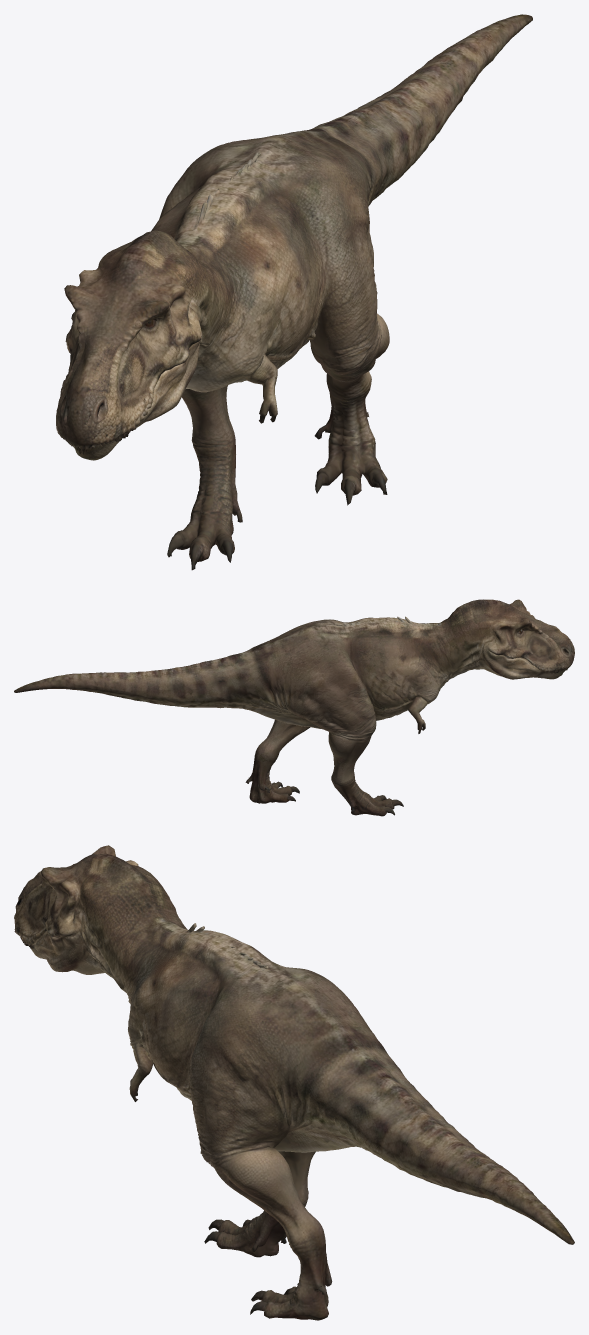
The model's file is t_rex.glb.
The picture shows the model from 3 angles, top to bottom: view 1: azimuth 30°, elevation 25°; view 2: azimuth 150°, elevation 25°; view 3: azimuth 270°, elevation 25°; orthographic projection. The views are drawn at different scales.
Visible parts, largest first — view 1: tripo_node_54bf6aaa-377e-409a-af2d-20ed7b3b4bb8; view 2: tripo_node_54bf6aaa-377e-409a-af2d-20ed7b3b4bb8; view 3: tripo_node_54bf6aaa-377e-409a-af2d-20ed7b3b4bb8.
Boxes of the visible parts, bbox=[...] form: tripo_node_54bf6aaa-377e-409a-af2d-20ed7b3b4bb8: bbox=[56, 14, 532, 570]; tripo_node_54bf6aaa-377e-409a-af2d-20ed7b3b4bb8: bbox=[14, 599, 574, 816]; tripo_node_54bf6aaa-377e-409a-af2d-20ed7b3b4bb8: bbox=[14, 845, 574, 1320].
Bounding box in the file's own units: 0.9824 × 0.4746 × 0.7281.
1 material, 1 textured.
